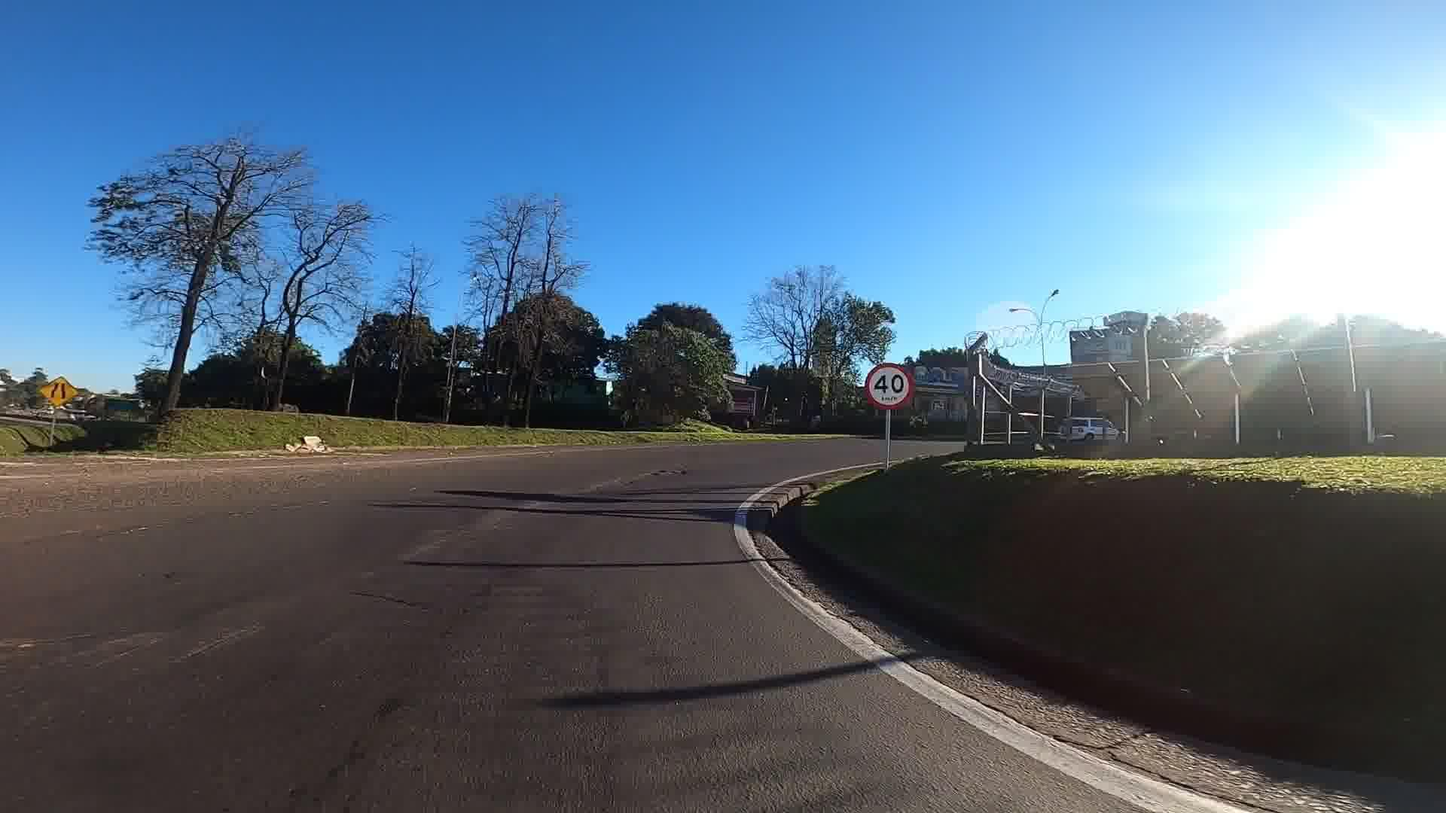R-19: (859, 362, 920, 410)
